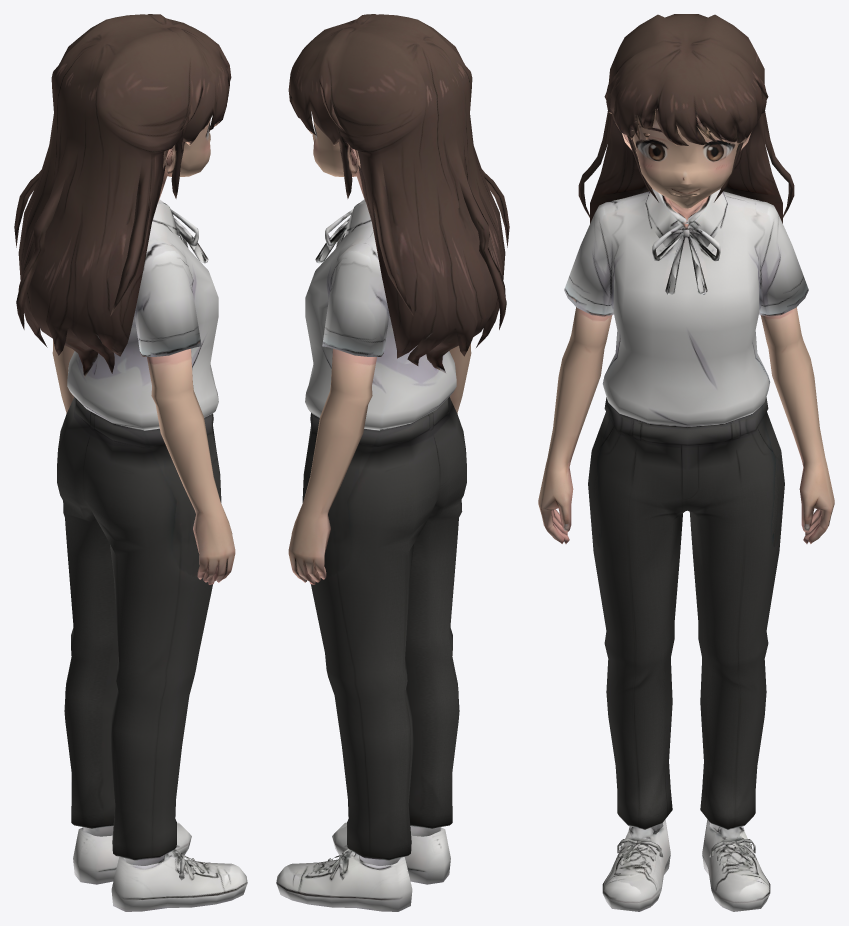
The model's file is anime+girl+3d+model.glb.
3 renders of one model, left to right at view 1: azimuth 30°, elevation 25°; view 2: azimuth 150°, elevation 25°; view 3: azimuth 270°, elevation 25°, orthographic.
Visible parts, largest first — view 1: tripo_node_c079aaef-7db0-4bf9-a2d9-c3c35babc236; view 2: tripo_node_c079aaef-7db0-4bf9-a2d9-c3c35babc236; view 3: tripo_node_c079aaef-7db0-4bf9-a2d9-c3c35babc236.
Part boxes in pixels (x1,y1,x2,y2): tripo_node_c079aaef-7db0-4bf9-a2d9-c3c35babc236: (14,14,247,911); tripo_node_c079aaef-7db0-4bf9-a2d9-c3c35babc236: (276,14,509,911); tripo_node_c079aaef-7db0-4bf9-a2d9-c3c35babc236: (538,14,834,911).
Size of the model in its own units: 0.252 by 0.998 by 0.3145.
1 material, 1 textured.
